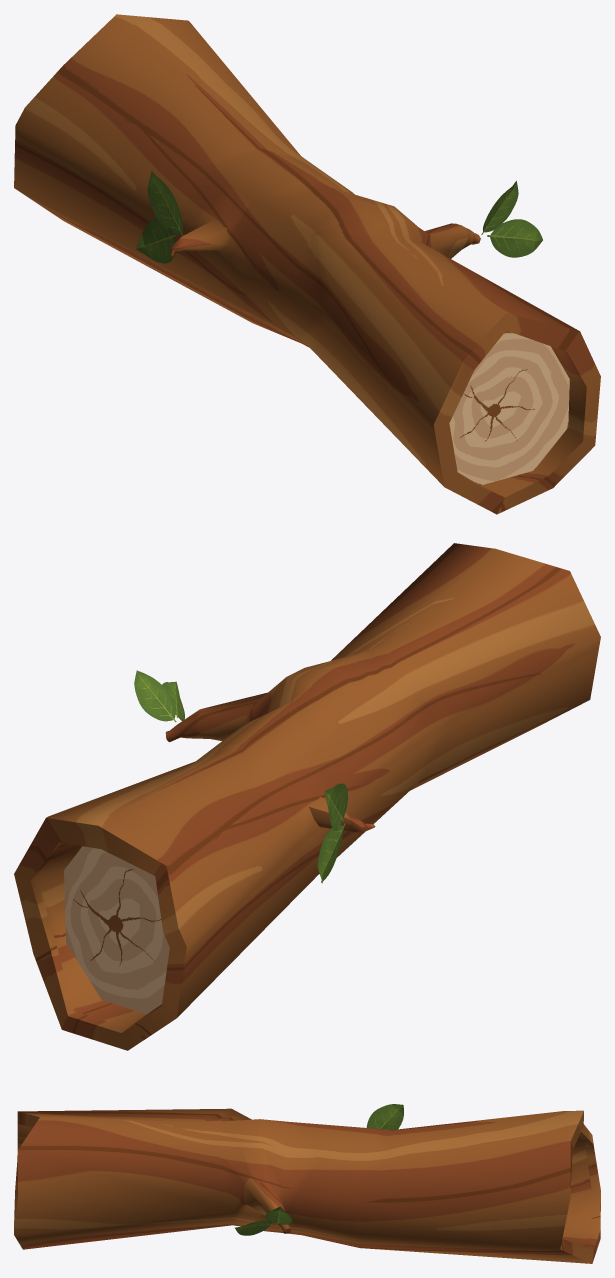
The model's file is batang kayuu.fbx.
3 renders of one model, top to bottom at view 1: azimuth 30°, elevation 25°; view 2: azimuth 150°, elevation 25°; view 3: azimuth 270°, elevation 25°, orthographic. The views are drawn at different scales.
Visible parts, largest first — view 1: Cylinder, apel.001, apel.005, apel.009, apel.019; view 2: Cylinder, apel.019, apel.009, apel.005; view 3: Cylinder, apel.005, apel.001, apel.019.
Part boxes in pixels (left/top/right/bottom): Cylinder: left=14, top=14, right=600, bottom=514; apel.001: left=487, top=219, right=542, bottom=257; apel.005: left=147, top=171, right=183, bottom=235; apel.009: left=136, top=218, right=175, bottom=263; apel.019: left=481, top=181, right=518, bottom=234; Cylinder: left=14, top=543, right=600, bottom=1050; apel.019: left=134, top=670, right=176, bottom=722; apel.009: left=317, top=823, right=345, bottom=883; apel.005: left=324, top=783, right=347, bottom=830; Cylinder: left=14, top=1108, right=600, bottom=1263; apel.005: left=366, top=1104, right=403, bottom=1129; apel.001: left=235, top=1220, right=272, bottom=1235; apel.019: left=265, top=1206, right=292, bottom=1224.
Bounding box in the file's own units: 254 × 162 × 604.
2 materials, 2 textured.
